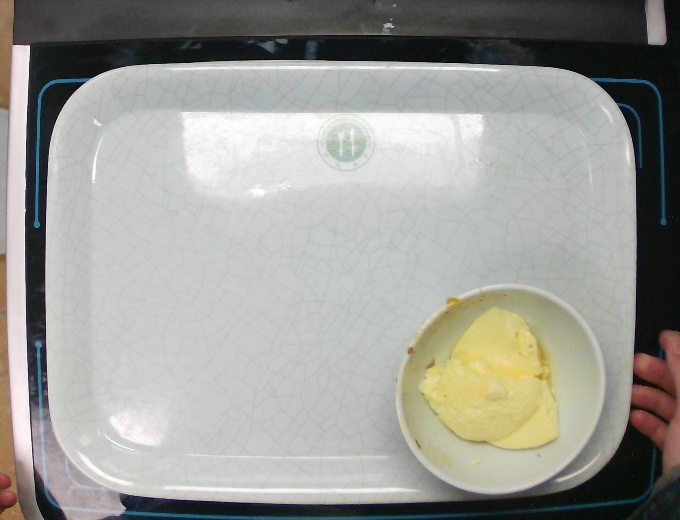JYsf-Fan_Wan: (394, 283, 611, 500)
